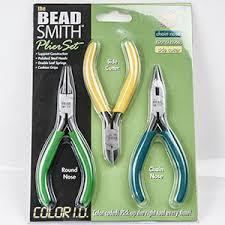pliers: (33, 64, 92, 207), (129, 64, 187, 204), (81, 39, 140, 164)
